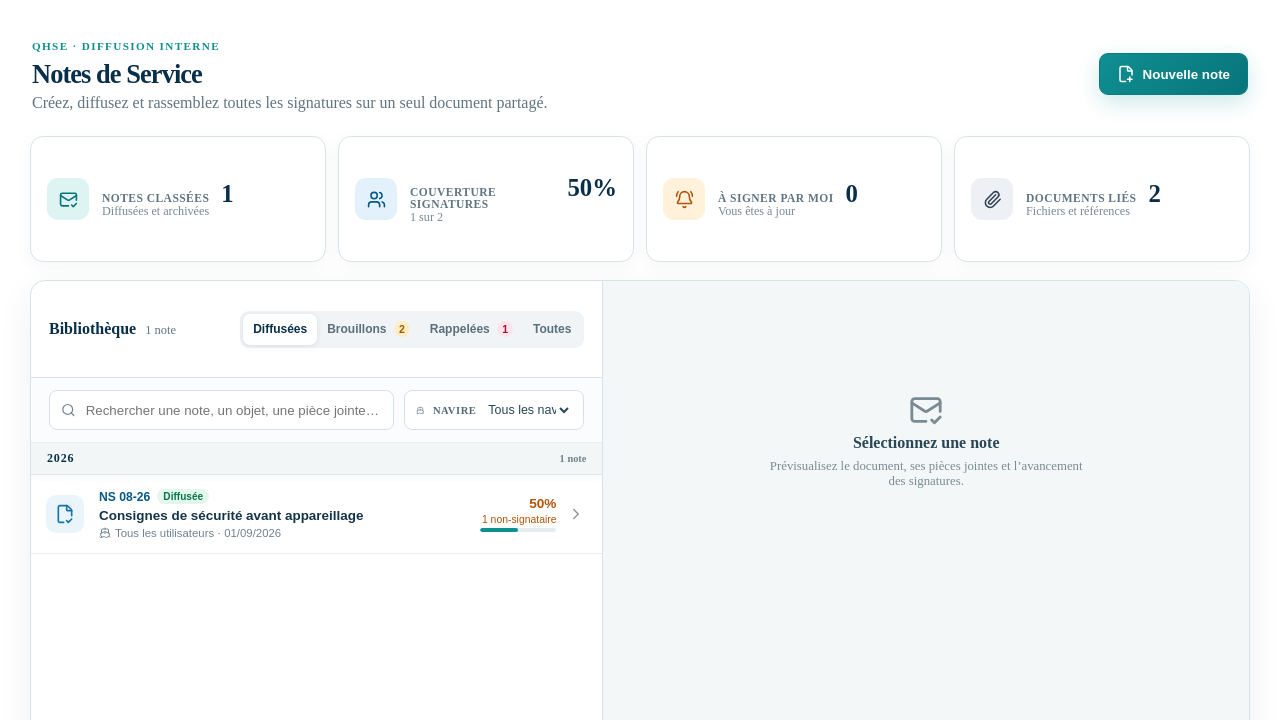
Test: ServiceNotesPage › keeps focus in the message when clicking and typing in a draft
Click the button "Brouillons 2" at (368, 329), box [317, 314, 420, 344]
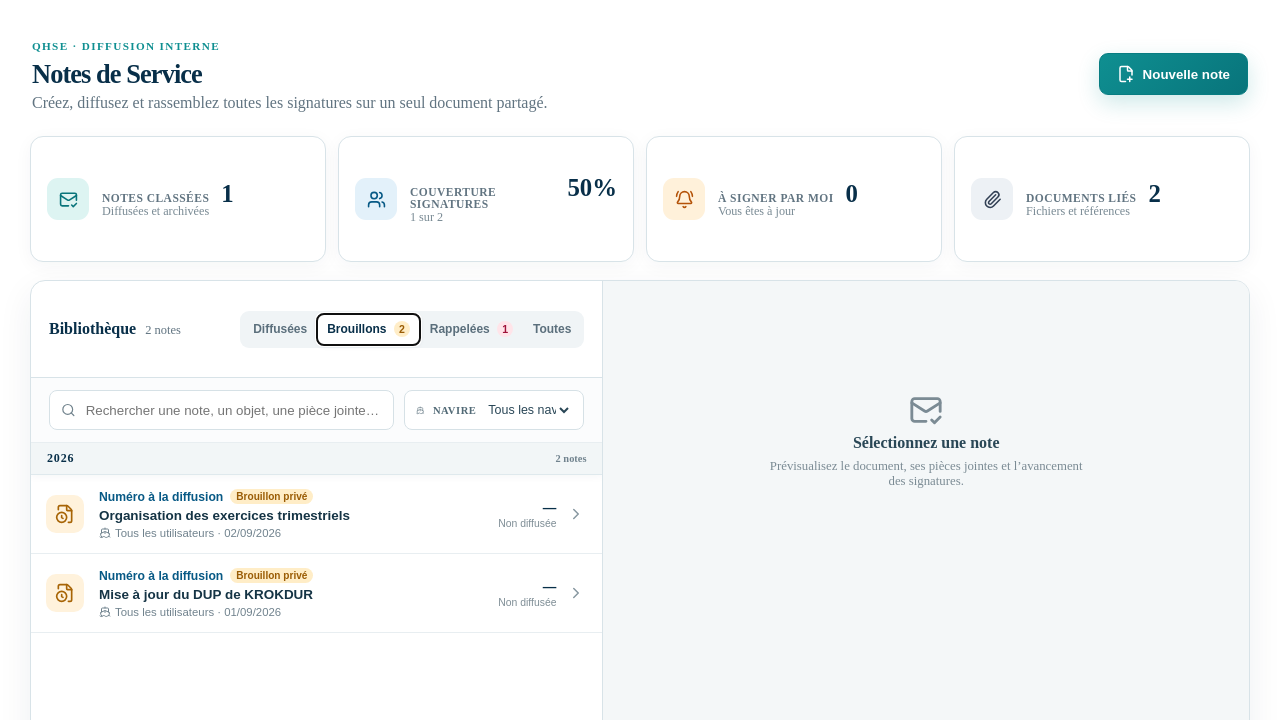
Click the text "Organisation des exercices trimestriels" at (224, 516), box [99, 508, 350, 523]
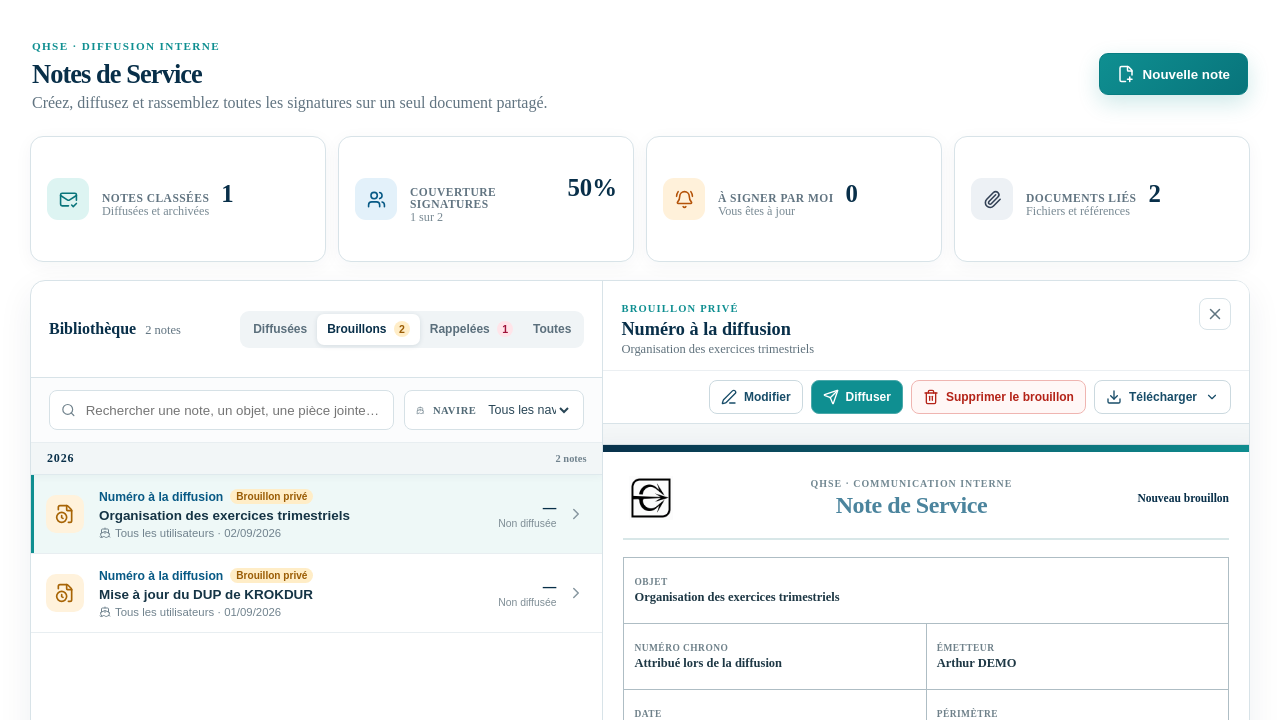
Click the button "Modifier" at (756, 397), box [709, 380, 803, 414]
(page scrolled)
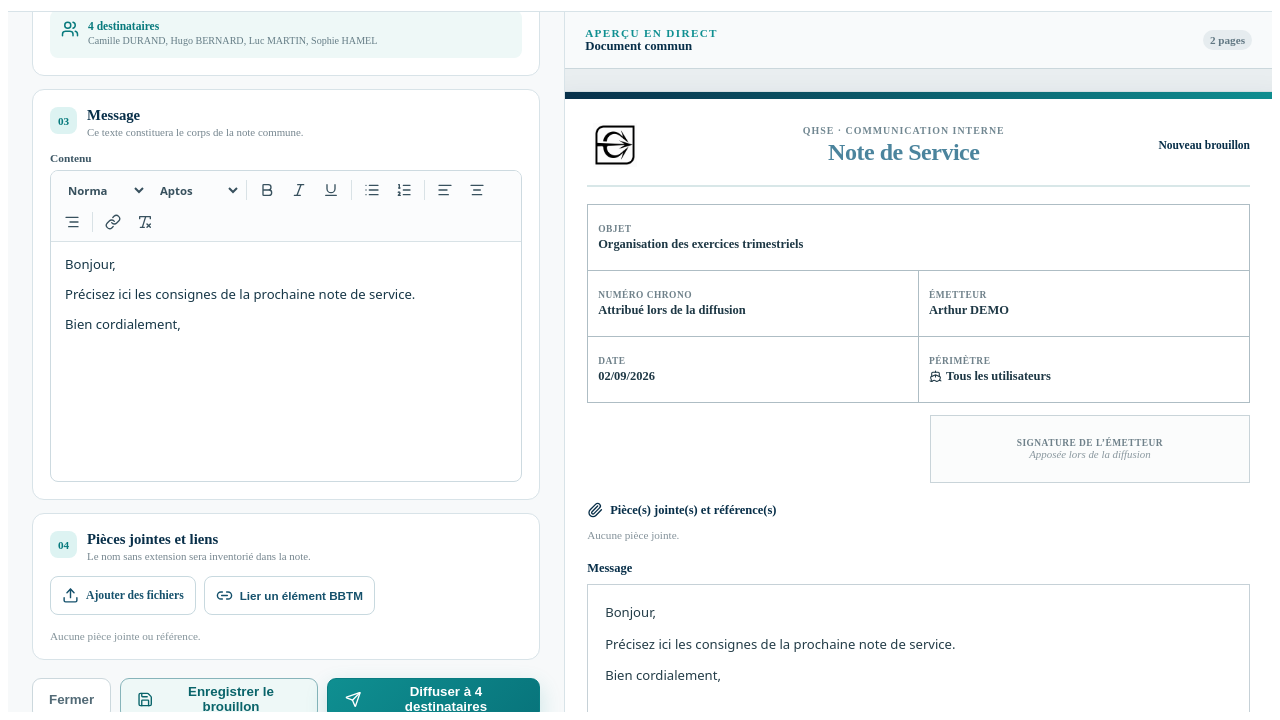
Click the field named "Contenu" at (240, 294), box [65, 255, 415, 333]
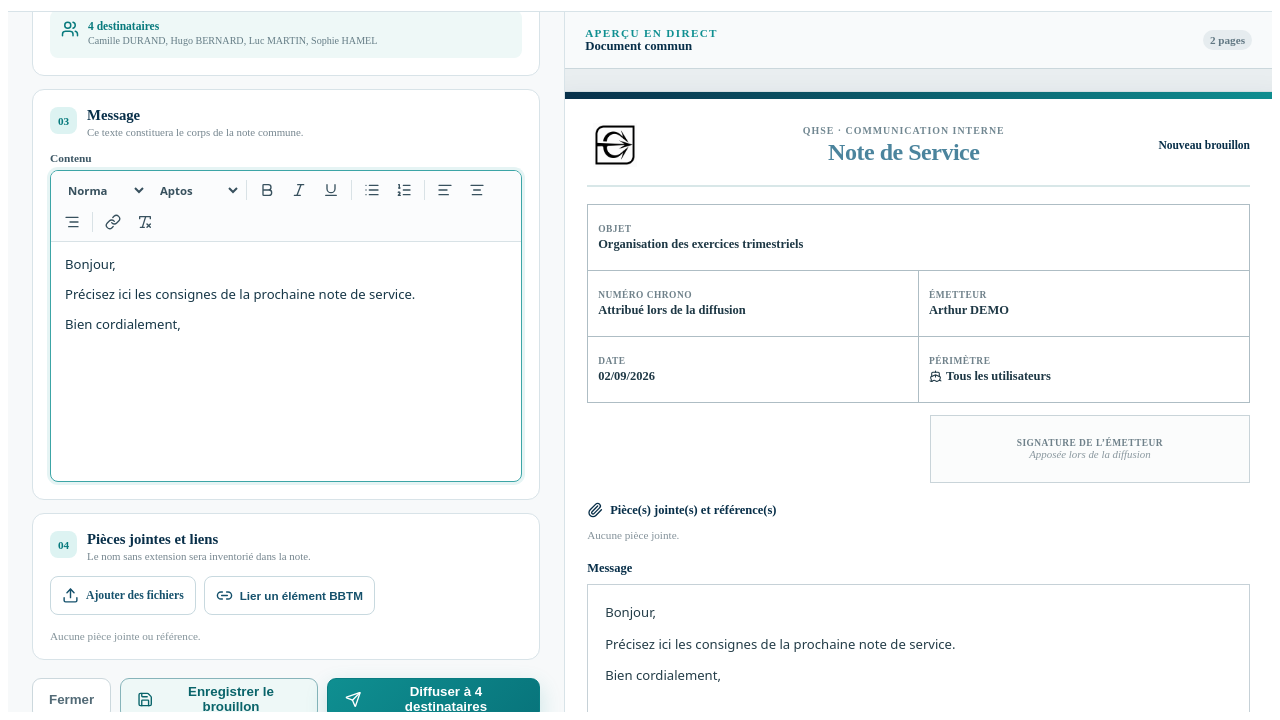
Type keys "Bonjour, voici la note de service."
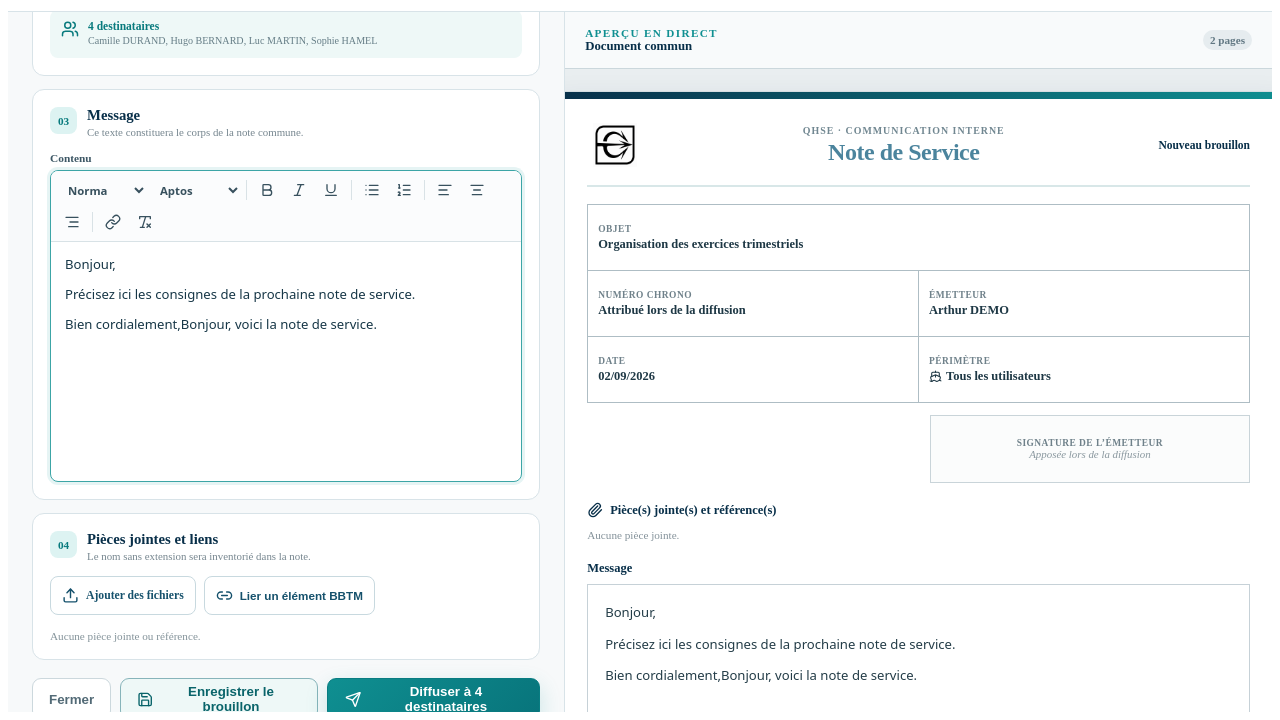
Now the field named "Contenu" shows "Bonjour, voici la note de service.", box [65, 255, 415, 333]
